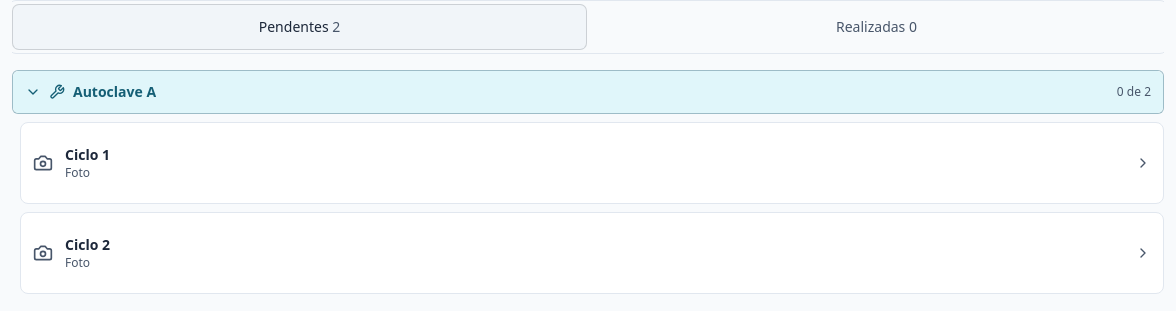
it: ColetaList › segmento vazio diz o que houve, não fica em branco
Click the button "Realizadas 0" at x=876, y=27, box [590,5,1163,49]
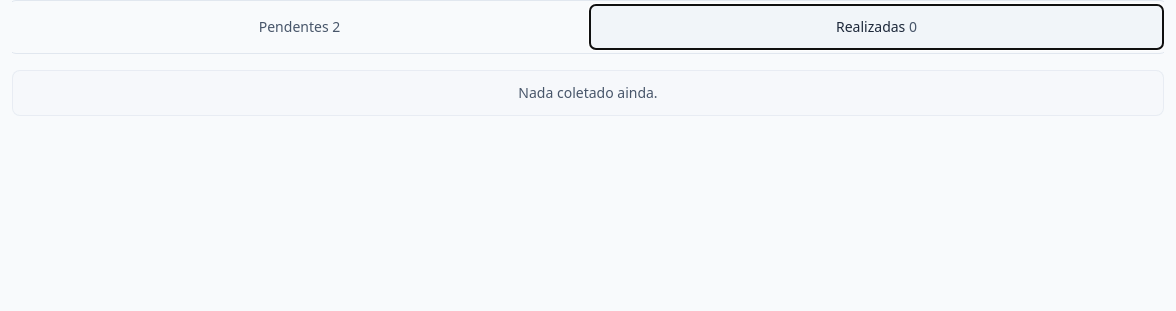
Expected: the text "Nada coletado ainda." is shown, [12,70,1164,116]
